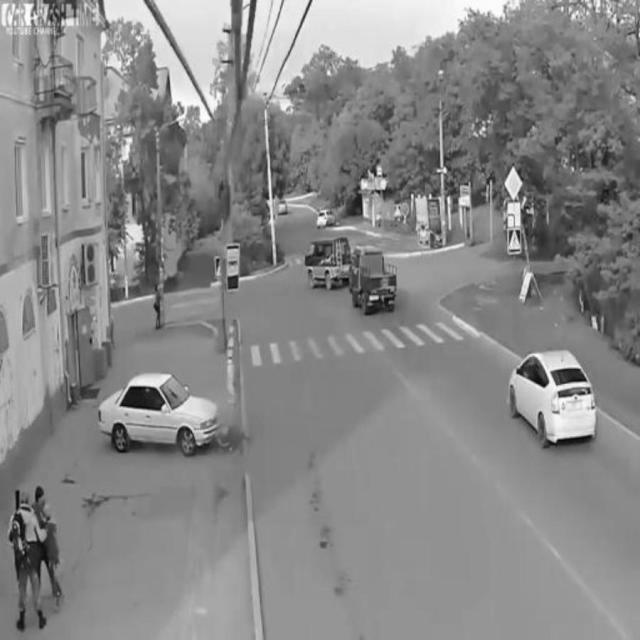person: (8, 490, 49, 630), (41, 501, 67, 614)
vehicle: (96, 369, 224, 457), (506, 349, 598, 450), (348, 243, 400, 316), (304, 233, 352, 290), (313, 207, 339, 231)
